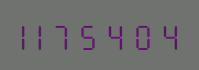five: (86, 20, 108, 50)
four: (109, 20, 131, 50), (155, 20, 177, 50)
one: (17, 20, 39, 50), (40, 20, 62, 50)
seven: (63, 20, 85, 50)
zero: (132, 20, 154, 50)
